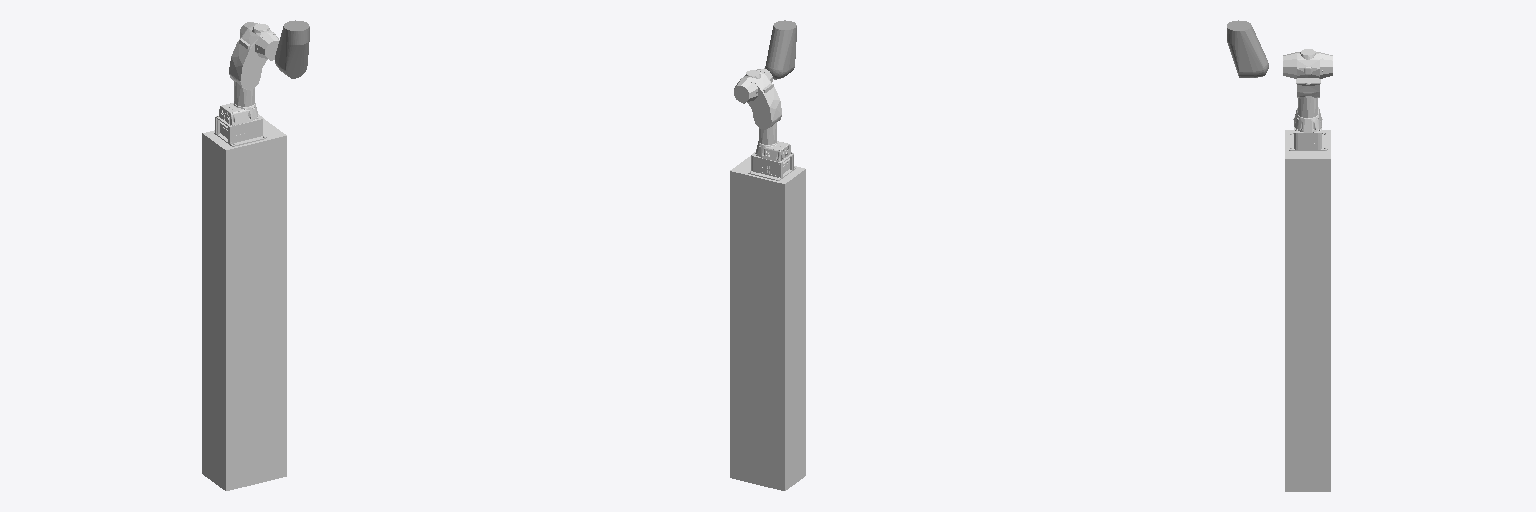
robot.urdf — merged:
<?xml version="1.0" encoding="utf-8"?>
<robot name="merged">

  <material name="white">
    <color rgba="0.9 0.9 0.9 1.0"/>
  </material>
  <material name="red">
    <color rgba="0.8984375 0.0 0.0703125 1"/>
  </material>

<link name="root">
  <inertial>
    <mass value="1"/>
    <inertia ixx="0.04" ixy="0.00" ixz="0.00" iyy="0.04" iyz="0.00" izz="0.02"/>
  </inertial>
</link>
  <link name="root_arm_1_link_1">
    <inertial>
      <mass value="1"/>
      <inertia ixx="0.04" ixy="0.00" ixz="0.00" iyy="0.04" iyz="0.00" izz="0.02"/>
    </inertial>
  </link>
  <link name="root_arm_1_link_2">
    <inertial>
      <mass value="1"/>
      <inertia ixx="0.04" ixy="0.00" ixz="0.00" iyy="0.04" iyz="0.00" izz="0.02"/>
    </inertial>
  </link>
  <joint name="root_x_axis_joint" type="prismatic">
    <parent link="root"/>
    <child link="root_arm_1_link_1"/>
    <axis xyz="1 0 0"/>
    <limit lower="-10" upper="10" velocity="0.50"/>
    <dynamics damping="10.0" friction="0"/>
  </joint>
  <joint name="root_y_axis_joint" type="prismatic">
    <parent link="root_arm_1_link_1"/>
    <child link="root_arm_1_link_2"/>
    <axis xyz="0 1 0"/>
    <limit lower="-10" upper="10" velocity="0.50"/>
    <dynamics damping="10.0" friction="0"/>
  </joint>
  <joint name="root_z_rotation_joint" type="continuous">
    <parent link="root_arm_1_link_2"/>
    <child link="mobile_base"/>
    <axis xyz="0 0 1"/>
    <dynamics damping="10.0" friction="0"/>
  </joint>

  <link name="mobile_base">
    <inertial>
      <mass value="1"/>
      <inertia ixx="0.04" ixy="0.00" ixz="0.00" iyy="0.04" iyz="0.00" izz="0.02"/>
    </inertial>
  </link>

  <joint name="linear_actuator_height" type="prismatic">
    <!-- <origin rpy="0 0 0" xyz="0 0 0.205"/> -->
    <parent link="mobile_base"/>
    <child link="adjustable_body"/>
    <axis xyz="0 0 1"/>
    <dynamics damping="10.0" friction="0"/>
    <limit lower="0" upper="1.6" velocity="0.50"/>
  </joint>

  <link name="adjustable_body">
    <inertial>
      <mass value="10"/>
      <inertia ixx="0.04" ixy="0.00" ixz="0.00" iyy="0.04" iyz="0.00" izz="0.02"/>
    </inertial>
    <visual>
      <origin rpy="0 0 0" xyz="0 0 -0.8"/>
      <geometry>
        <box size="0.3 0.2 1.6"/>
      </geometry>
      <material name="white"/>
    </visual>
    <collision>
      <origin rpy="0 0 0" xyz="0.0 0.0 -0.8"/>
      <geometry>
        <box size="0.3 0.2 1.6"/>
      </geometry>
    </collision>
  </link>

  <joint name="fixed_joint_to_body_base" type="fixed">
    <origin rpy="0 0 0" xyz="0 0 0"/>
    <parent link="adjustable_body"/>
    <child link="body_base_link"/>
  </joint>

  <link name="body_base_link">
    <visual>
      <geometry>
        <mesh filename="sciurus17_description/meshes/visual/Base.obj" scale="1.0 1.0 1.0"/>
      </geometry>
      <material name="white"/>
    </visual>
    <collision>
      <origin rpy="0 0 0" xyz="0.0 0.0 0.0"/>
      <geometry>
        <mesh filename="sciurus17_description/meshes/collision/Base.obj" scale="1.0 1.0 1.0"/>
      </geometry>
    </collision>
    <inertial>
      <origin rpy="0 0 0" xyz="-24.012e-03 0.139e-03 59.566e-03"/>
      <inertia ixx="6398092.663e-09" ixy="-6808.969e-09" ixz="-331509.04e-09" iyy="7611664.357e-09" iyz="2026.354e-09"
               izz="6331936.461e-09"/>
      <mass value="1722.937e-03"/>
    </inertial>
  </link>
  <joint name="waist_yaw_joint" type="fixed">
    <parent link="body_base_link"/>
    <child link="body_link"/>
    <origin rpy="0 0 0" xyz="0.0 0.0 0.1315"/>
    <limit effort="4.0" lower="-1.91986217719" upper="1.91986217719" velocity="5.969211435"/>
    <axis xyz="0 0 1"/>
    <dynamics damping="1.0e-6" friction="0"/>
  </joint>
  <link name="body_link">
    <visual>
      <geometry>
        <mesh filename="sciurus17_description/meshes/visual/Body.obj" scale="1.0 1.0 1.0"/>
      </geometry>
      <material name="white"/>
    </visual>
    <collision>
      <origin rpy="0 0 0" xyz="0.0 0.0 0.0"/>
      <geometry>
        <mesh filename="sciurus17_description/meshes/collision/Body.obj" scale="1.0 1.0 1.0"/>
      </geometry>
    </collision>
    <inertial>
      <origin rpy="0 0 0" xyz="57.11e-03 0.372e-03 238.229e-03"/>
      <inertia ixx="15601031.58e-09" ixy="-15890.903e-09" ixz="-3805596.494e-09" iyy="13969734.5e-09"
               iyz="-20695.221e-09" izz="8327993.097e-09"/>
      <mass value="1482.929e-03"/>
    </inertial>
  </link>

  <!--  right arm right_panda-->
  <link name="right_panda_link1">
    <inertial>
      <mass value="2.74"/>
      <origin xyz="0 -0.0324958 -0.0675818" rpy="0 0 0"/>
      <inertia ixx="0.0180416958283" ixy="0.0" ixz="0.0" iyy="0.0159136071891" iyz="0.0046758424612" izz="0.00620690827127"/>
    </inertial>
    <visual>
      <origin rpy="1.57079632679 0 0"/>
      <geometry>
        <mesh filename="package://drake/manipulation/models/franka_description/meshes/visual/link1.obj"/>
      </geometry>
    </visual>
    <collision>
      <origin rpy="0 0 0" xyz="0.0 0.0 -0.13"/>
      <geometry>
        <sphere radius="0.06"/>
      </geometry>
    </collision>
    <collision>
      <origin rpy="0 0 0" xyz="0.0 0.0 -0.16"/>
      <geometry>
        <sphere radius="0.06"/>
      </geometry>
    </collision>
    <collision>
      <origin rpy="0 0 0" xyz="0.0 0.0 -0.19"/>
      <geometry>
        <sphere radius="0.06"/>
      </geometry>
    </collision>
    <collision>
      <origin rpy="0 0 0" xyz="0.0 -0.04 -0.06"/>
      <geometry>
        <sphere radius="0.06"/>
      </geometry>
    </collision>
    <collision>
      <origin rpy="0 0 0" xyz="0.0 -0.0750 -0.0"/>
      <geometry>
        <sphere radius="0.06"/>
      </geometry>
    </collision>
    <collision>
      <origin rpy="0 0 0" xyz="0.0 -0.0350 -0.0"/>
      <geometry>
        <sphere radius="0.06"/>
      </geometry>
    </collision>
  </link>

  <joint name="right_panda_joint1" type="revolute">
    <safety_controller k_position="100.0" k_velocity="40.0" soft_lower_limit="-2.8973" soft_upper_limit="2.8973"/>
    <parent link="body_link"/>
    <child link="right_panda_link1"/>
    <axis xyz="0 0 1"/>
    <limit effort="87" lower="-2.8973" upper="2.8973" velocity="2.1750"/>
    <origin rpy="1.57079 0 0" xyz="0.08083 -0.3012 0.2885"/>
  </joint>

  <link name="right_panda_link2">
    <inertial>
      <mass value="2.74"/>
      <origin xyz="0 -0.06861 0.0322285" rpy="0 0 0"/>
      <inertia ixx="0.0182856182281" ixy="0.0" ixz="0.0" iyy="0.00621358421175" iyz="-0.00472844221905" izz="0.0161514346309"/>
    </inertial>
    <visual>
      <geometry>
        <mesh filename="franka_description/meshes/visual/link2.dae"/>
      </geometry>
    </visual>
    <collision>
      <geometry>
        <mesh filename="franka_description/meshes/collision/link2.obj"/>
      </geometry>
    </collision>
  </link>
  <joint name="right_panda_joint2" type="revolute">
    <safety_controller k_position="100.0" k_velocity="40.0" soft_lower_limit="-1.7628" soft_upper_limit="1.7628"/>
    <origin rpy="-1.57079632679 0 0" xyz="0 0 0"/>
    <parent link="right_panda_link1"/>
    <child link="right_panda_link2"/>
    <axis xyz="0 0 1"/>
    <limit effort="87" lower="-1.7628" upper="1.7628" velocity="2.1750"/>
  </joint>
  <link name="right_panda_link3">
    <inertial>
      <mass value="2.38"/>
      <origin xyz="0.0469893 0.0316374 -0.031704" rpy="0 0 0"/>
      <inertia ixx="0.00771376630908" ixy="-0.00248490625138" ixz="-0.00332147581033" iyy="0.00989108008727" iyz="-0.00217796151484" izz="0.00811723558464"/>
    </inertial>
    <visual>
      <geometry>
        <mesh filename="franka_description/meshes/visual/link3.dae"/>
      </geometry>
    </visual>
    <collision>
      <geometry>
        <mesh filename="franka_description/meshes/collision/link3.obj"/>
      </geometry>
    </collision>
  </link>
  <joint name="right_panda_joint3" type="revolute">
    <safety_controller k_position="100.0" k_velocity="40.0" soft_lower_limit="-2.8973" soft_upper_limit="2.8973"/>
    <origin rpy="1.57079632679 0 0" xyz="0 -0.316 0"/>
    <parent link="right_panda_link2"/>
    <child link="right_panda_link3"/>
    <axis xyz="0 0 1"/>
    <limit effort="87" lower="-2.8973" upper="2.8973" velocity="2.1750"/>
  </joint>
  <link name="right_panda_link4">
    <inertial>
      <mass value="2.38"/>
      <origin xyz="-0.0360446 0.0336853 0.031882" rpy="0 0 0"/>
      <inertia ixx="0.00799663881132" ixy="0.00347095570217" ixz="-0.00241222942995" iyy="0.00825390705278" iyz="0.00235774044121" izz="0.0102515004345"/>
    </inertial>
    <visual>
      <geometry>
        <mesh filename="franka_description/meshes/visual/link4.dae"/>
      </geometry>
    </visual>
    <collision>
      <geometry>
        <mesh filename="franka_description/meshes/collision/link4.obj"/>
      </geometry>
    </collision>
  </link>
  <joint name="right_panda_joint4" type="revolute">
    <safety_controller k_position="100.0" k_velocity="40.0" soft_lower_limit="-3.0718" soft_upper_limit="-0.0698"/>
    <origin rpy="1.57079632679 0 0" xyz="0.0825 0 0"/>
    <parent link="right_panda_link3"/>
    <child link="right_panda_link4"/>
    <axis xyz="0 0 1"/>
    <limit effort="87" lower="-3.0718" upper="-0.0698" velocity="2.1750"/>
  </joint>
  <link name="right_panda_link5">
    <inertial>
      <mass value="2.74"/>
      <origin xyz="0 0.0610427 -0.104176" rpy="0 0 0"/>
      <inertia ixx="0.030371374513" ixy="6.50283587108e-07" ixz="-1.05129179916e-05" iyy="0.0288752887402" iyz="-0.00775653445787" izz="0.00444134056164"/>
    </inertial>
    <visual>
      <geometry>
        <mesh filename="franka_description/meshes/visual/link5.dae"/>
      </geometry>
    </visual>
    <collision>
      <geometry>
        <mesh filename="franka_description/meshes/collision/link5.obj"/>
      </geometry>
    </collision>
  </link>
  <joint name="right_panda_joint5" type="revolute">
    <safety_controller k_position="100.0" k_velocity="40.0" soft_lower_limit="-2.8973" soft_upper_limit="2.8973"/>
    <origin rpy="-1.57079632679 0 0" xyz="-0.0825 0.384 0"/>
    <parent link="right_panda_link4"/>
    <child link="right_panda_link5"/>
    <axis xyz="0 0 1"/>
    <limit effort="12" lower="-2.8973" upper="2.8973" velocity="2.6100"/>
  </joint>
  <link name="right_panda_link6">
    <inertial>
      <mass value="1.55"/>
      <origin xyz="0.0510509 0.009108 0.0106343" rpy="0 0 0"/>
      <inertia ixx="0.00303336450376" ixy="-0.000437276865508" ixz="0.000629257294877" iyy="0.00404479911567" iyz="0.000130472021025" izz="0.00558234286039"/>
    </inertial>
    <visual>
      <geometry>
        <mesh filename="franka_description/meshes/visual/link6.dae"/>
      </geometry>
    </visual>
    <collision>
      <geometry>
        <mesh filename="franka_description/meshes/collision/link6.obj"/>
      </geometry>
    </collision>
  </link>
  <joint name="right_panda_joint6" type="revolute">
    <safety_controller k_position="100.0" k_velocity="40.0" soft_lower_limit="-0.0175" soft_upper_limit="3.7525"/>
    <origin rpy="1.57079632679 0 0" xyz="0 0 0"/>
    <parent link="right_panda_link5"/>
    <child link="right_panda_link6"/>
    <axis xyz="0 0 1"/>
    <limit effort="12" lower="-0.0175" upper="3.7525" velocity="2.6100"/>
  </joint>
  <link name="right_panda_link7">
    <inertial>
      <mass value="0.54"/>
      <origin xyz="0.0109695 0.0107965 0.0650411" rpy="0 0 0"/>
      <inertia ixx="0.000888868887021" ixy="-0.00012239074652" ixz="3.98699829666e-05" iyy="0.000888001373233" iyz="-9.33825115206e-05" izz="0.0007176834609"/>
    </inertial>
    <visual>
      <geometry>
        <mesh filename="franka_description/meshes/visual/link7.dae"/>
      </geometry>
    </visual>
    <collision>
      <geometry>
        <mesh filename="franka_description/meshes/collision/link7.obj"/>
      </geometry>
    </collision>
  </link>
  <joint name="right_panda_joint7" type="revolute">
    <safety_controller k_position="100.0" k_velocity="40.0" soft_lower_limit="-2.8973" soft_upper_limit="2.8973"/>
    <origin rpy="1.57079632679 0 0" xyz="0.088 0 0"/>
    <parent link="right_panda_link6"/>
    <child link="right_panda_link7"/>
    <axis xyz="0 0 1"/>
    <limit effort="12" lower="-2.8973" upper="2.8973" velocity="2.6100"/>
  </joint>
  <link name="right_panda_tool_tip"/>
  <link name="right_panda_link8">
    <inertial>
      <mass value="0.1"/>
      <inertia ixx="4e-4" ixy="0.0" ixz="0.0" iyy="4e-4" iyz="0.0" izz="4e-4"/>
    </inertial>
  </link>
  <joint name="right_panda_joint8" type="fixed">
    <origin rpy="0 0 0" xyz="0 0 0.107"/>
    <parent link="right_panda_link7"/>
    <child link="right_panda_link8"/>
    <axis xyz="0 0 0"/>
  </joint>
  <joint name="right_panda_hand_joint" type="fixed">
    <parent link="right_panda_link8"/>
    <child link="right_panda_hand"/>
    <origin rpy="0 0 -0.785398163397" xyz="0 0 0"/>
  </joint>
  <link name="right_panda_hand">
    <inertial>
      <mass value="0.73"/>
      <origin xyz="0 0.0015244 0.0275912" rpy="0 0 0"/>
      <inertia ixx="0.00278560230025" ixy="0.0" ixz="0.0" iyy="0.000400033405336" iyz="0.0" izz="0.00256378041832"/>
    </inertial>
    <visual>
      <geometry>
        <mesh filename="franka_description/meshes/visual/hand.dae"/>
      </geometry>
    </visual>
    <collision>
      <geometry>
        <mesh filename="franka_description/meshes/collision/hand.obj"/>
      </geometry>
    </collision>
  </link>
  <joint name="right_panda_tool_tip_joint" type="fixed">
    <origin rpy="0 -1.5708 0" xyz="0 0 0.1"/>
    <parent link="right_panda_hand"/>
    <child link="right_panda_tool_tip"/>
    <axis xyz="0 0 0"/>
  </joint>
  <link name="right_panda_leftfinger">
    <inertial>
      <mass value="0.1"/>
      <origin xyz="0 0.0145644 0.0227941" rpy="0 0 0"/>
      <inertia ixx="3.01220925051e-05" ixy="0.0" ixz="0.0" iyy="2.95873808038e-05" iyz="0.0" izz="6.95125211657e-06"/>
    </inertial>
    <visual>
      <geometry>
        <mesh filename="franka_description/meshes/visual/finger.dae"/>
      </geometry>
    </visual>
    <collision>
      <geometry>
        <mesh filename="franka_description/meshes/collision/finger.obj"/>
      </geometry>
    </collision>
  </link>
  <link name="right_panda_rightfinger">
    <inertial>
      <mass value="0.1"/>
      <origin xyz="0 0.0145644 0.0227941" rpy="0 0 3.14159265359"/>
      <inertia ixx="3.01220925051e-05" ixy="0.0" ixz="0.0" iyy="2.95873808038e-05" iyz="0.0" izz="6.95125211657e-06"/>
    </inertial>
    <visual>
      <origin rpy="0 0 3.14159265359" xyz="0 0 0"/>
      <geometry>
        <mesh filename="franka_description/meshes/visual/finger.dae"/>
      </geometry>
    </visual>
    <collision>
      <origin rpy="0 0 3.14159265359" xyz="0 0 0"/>
      <geometry>
        <mesh filename="franka_description/meshes/collision/finger.obj"/>
      </geometry>
    </collision>
  </link>
  <joint name="right_panda_finger_joint1" type="prismatic">
    <parent link="right_panda_hand"/>
    <child link="right_panda_leftfinger"/>
    <origin rpy="0 0 0" xyz="0 0 0.0584"/>
    <axis xyz="0 1 0"/>
    <limit effort="20" lower="0.0" upper="0.04" velocity="0.2"/>
  </joint>
  <joint name="right_panda_finger_joint2" type="prismatic">
    <parent link="right_panda_hand"/>
    <child link="right_panda_rightfinger"/>
    <origin rpy="0 0 0" xyz="0 0 0.0584"/>
    <axis xyz="0 -1 0"/>
    <limit effort="20" lower="0.0" upper="0.04" velocity="0.2"/>
    <mimic joint="right_panda_finger_joint1"/>
  </joint>

</robot>

--- Render facts (derived) ---
3 views of the same robot in one strip: view 1: azimuth 30°, elevation 25°; view 2: azimuth 150°, elevation 25°; view 3: azimuth 270°, elevation 25° (orthographic).
Robot: merged — 19 links, 18 joints (7 revolute, 1 continuous, 5 prismatic, 5 fixed); root link root; default pose: all joints at 0 but 1 set to mid-range because 0 is outside their limits (right_panda_joint4 = -1.57).
Visible links, largest first — view 1: adjustable_body, body_link, body_base_link, right_panda_link1; view 2: adjustable_body, body_link, right_panda_link1, body_base_link; view 3: adjustable_body, body_link, right_panda_link1, body_base_link.
Link boxes in pixels (x1=…): adjustable_body: x1=202, y1=118, x2=286, y2=490; body_link: x1=229, y1=22, x2=279, y2=106; body_base_link: x1=214, y1=103, x2=266, y2=146; right_panda_link1: x1=275, y1=20, x2=309, y2=78; adjustable_body: x1=730, y1=156, x2=805, y2=490; body_link: x1=734, y1=68, x2=781, y2=144; right_panda_link1: x1=765, y1=20, x2=796, y2=79; body_base_link: x1=748, y1=141, x2=795, y2=180; adjustable_body: x1=1285, y1=130, x2=1330, y2=491; body_link: x1=1283, y1=49, x2=1332, y2=117; right_panda_link1: x1=1227, y1=20, x2=1268, y2=77; body_base_link: x1=1289, y1=107, x2=1327, y2=150.
Size in the robot's own frame: 0.3 by 0.4669 by 2.21 metres.
Meshes: 11 distinct files referenced, 3 mesh visuals loaded (3 OBJ); not drawn: 9 (reference not matched to a file when rendering).